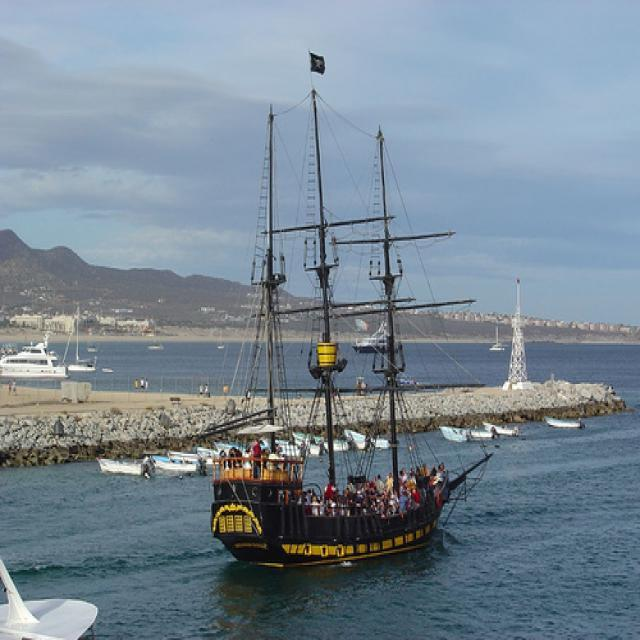Ship: (198, 85, 481, 565)
